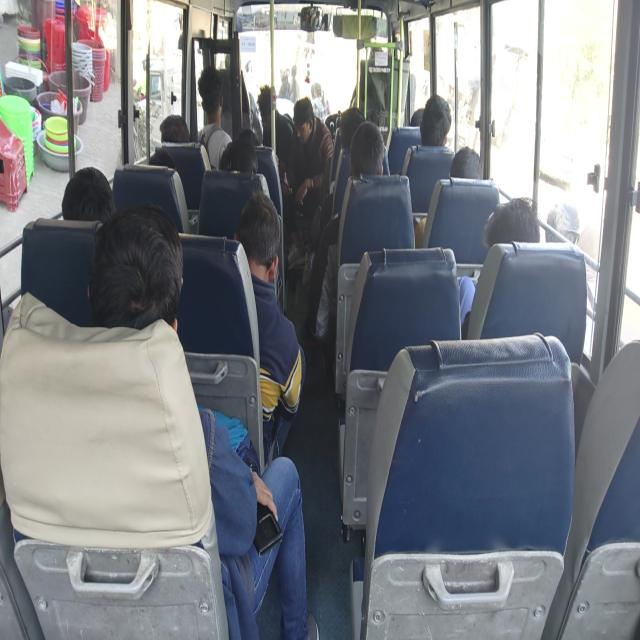person: (93, 230, 175, 338), (62, 168, 114, 227), (239, 209, 281, 276), (488, 205, 539, 250), (352, 133, 390, 185), (154, 103, 192, 151), (450, 153, 488, 191), (220, 143, 260, 178), (196, 72, 224, 120), (422, 100, 448, 150), (217, 44, 250, 77), (338, 112, 367, 148), (238, 121, 269, 154), (256, 83, 277, 124), (149, 150, 181, 176), (295, 100, 313, 145), (363, 48, 388, 74)
